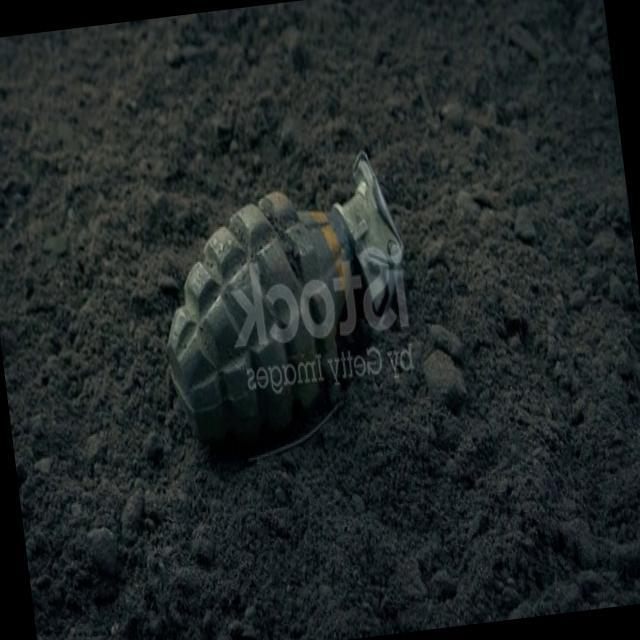grenade: (142, 136, 426, 478)
